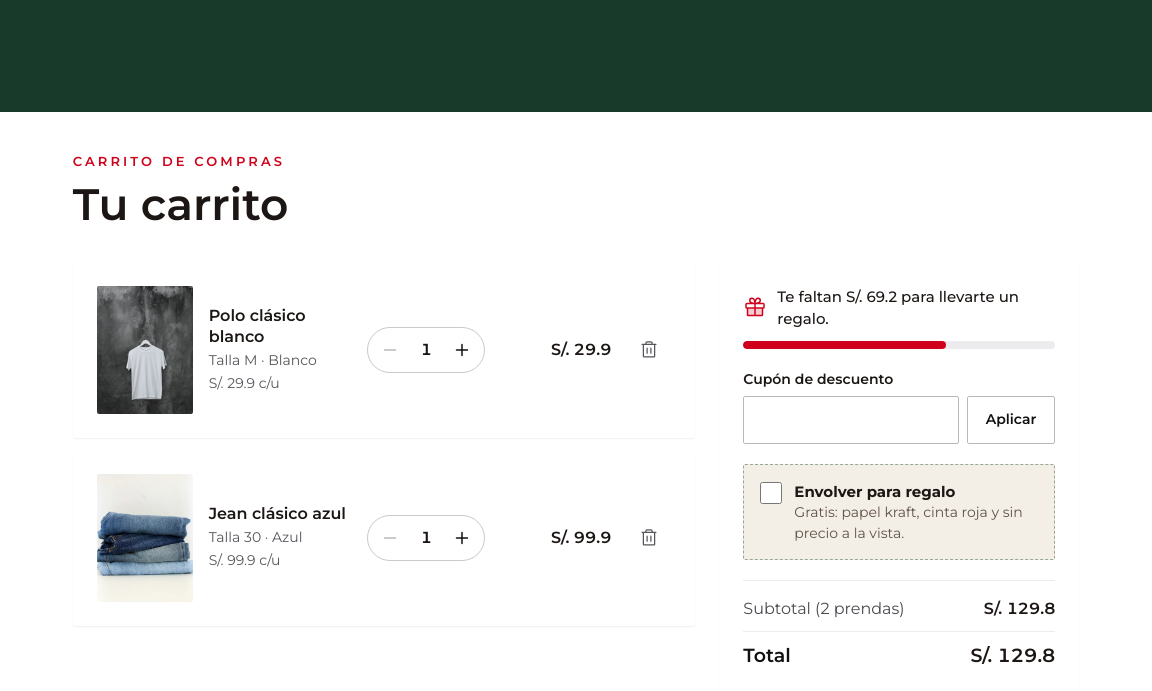
Test: CarritoPage › quita una prenda y lo avisa
Click the button named "Quitar Polo clásico blanco del carrito" at (649, 350), box left=627, top=328, right=671, bottom=372
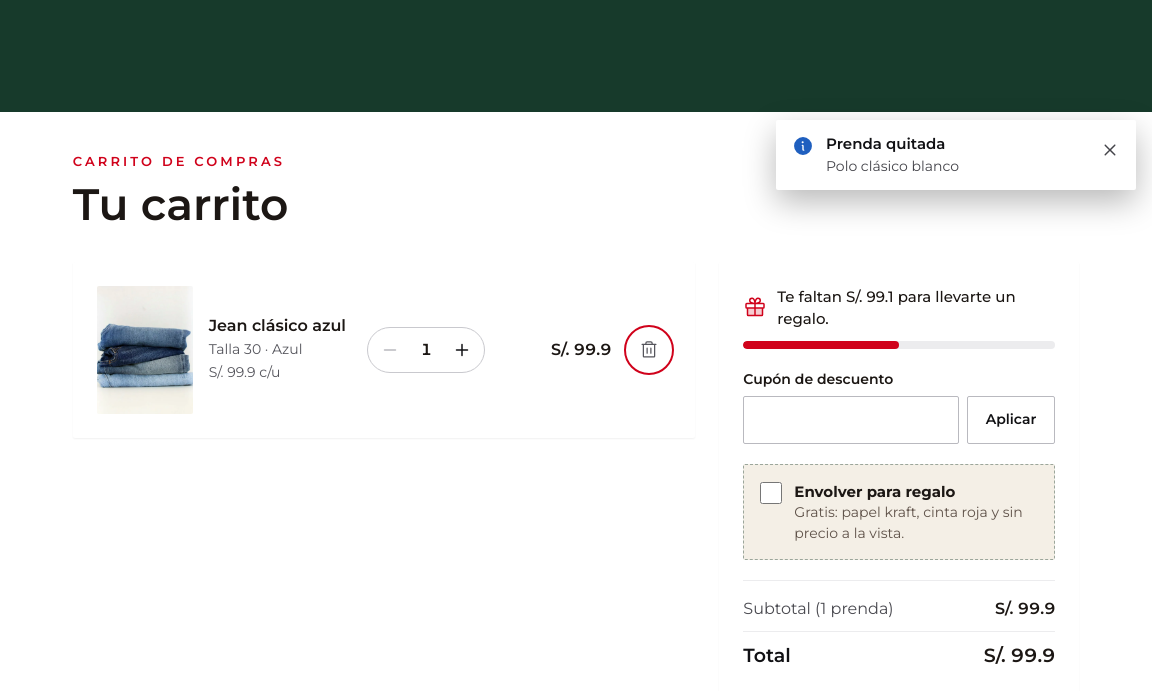
Result: the text "Prenda quitada" is shown at left=826, top=134, right=945, bottom=153
